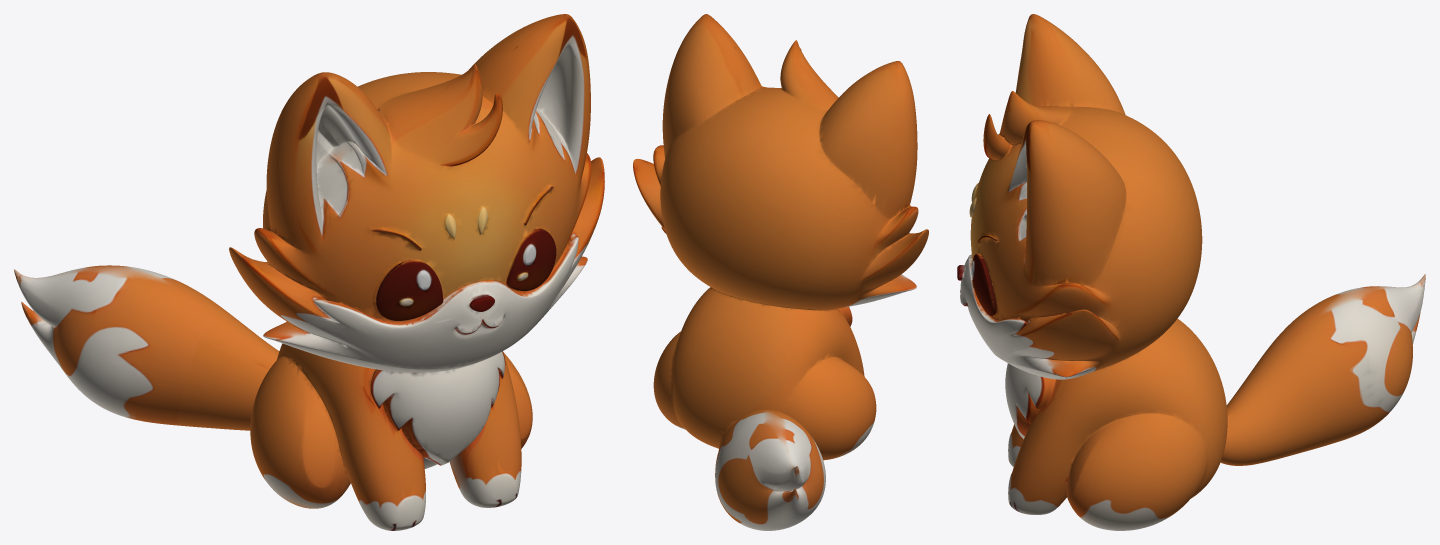
The model's file is hunyuan-fox.glb.
3 renders of one model, left to right at view 1: azimuth 30°, elevation 25°; view 2: azimuth 150°, elevation 25°; view 3: azimuth 270°, elevation 25°, orthographic. The views are drawn at different scales.
Visible parts, largest first — view 1: material; view 2: material; view 3: material.
Part boxes in pixels (<box>): material: <box>14,14,604,530</box>; material: <box>633,14,928,530</box>; material: <box>957,14,1425,530</box>.
Size of the model in its own units: 0.745 by 0.8476 by 0.8473.
1 material, 1 textured.
